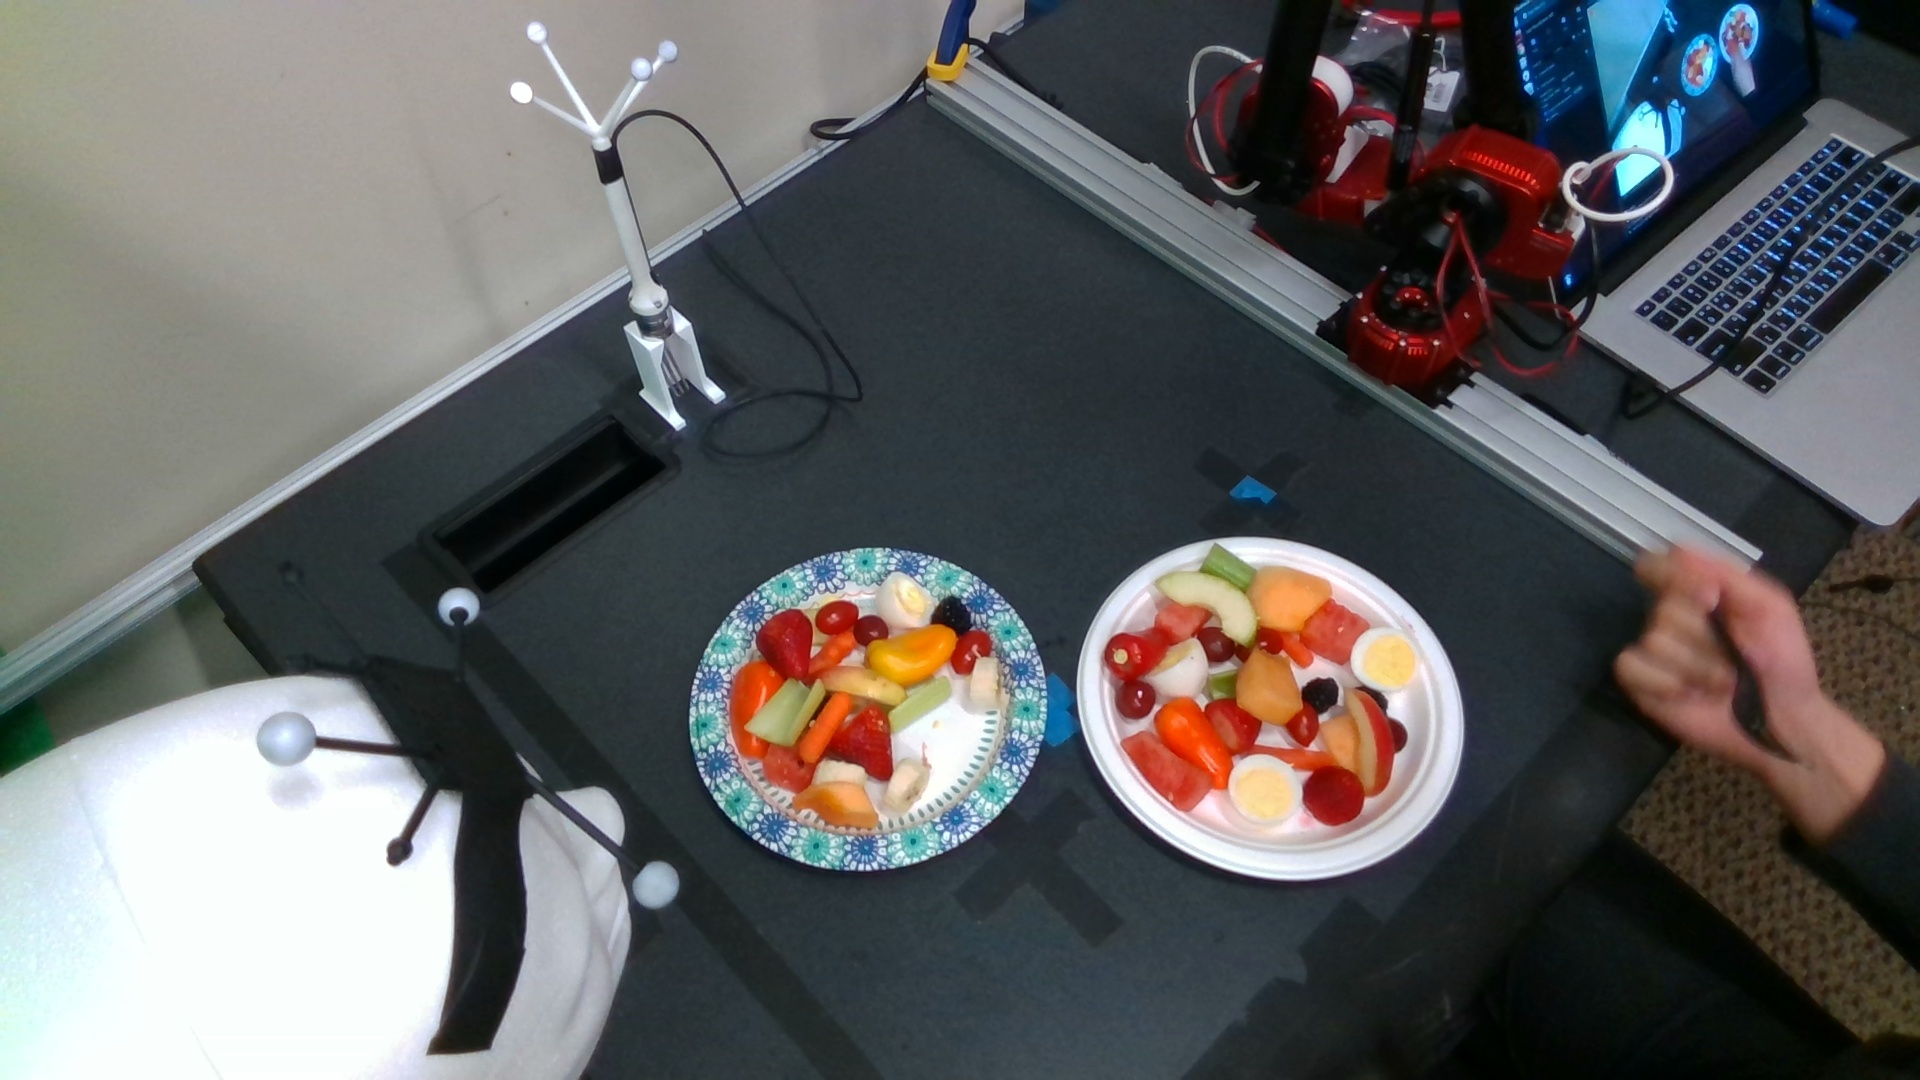apple: (1154, 574, 1258, 646), (1345, 687, 1395, 796)
banana: (884, 757, 931, 814), (971, 657, 1000, 711)
bell pepper: (1154, 698, 1234, 789), (864, 625, 957, 686), (731, 659, 782, 760), (1102, 626, 1170, 680)
blackberry: (931, 595, 971, 636), (1302, 676, 1338, 716)
cantalope: (1245, 564, 1333, 630), (1236, 647, 1304, 727), (793, 783, 877, 831)
carrot: (800, 688, 849, 764), (808, 630, 858, 676)
celery: (744, 676, 825, 746), (887, 675, 953, 735), (1200, 543, 1261, 600)
cherry tomato: (951, 629, 992, 676), (1284, 702, 1319, 749), (816, 601, 857, 636), (1237, 629, 1283, 659)
egg: (1229, 754, 1302, 825), (1350, 628, 1419, 694), (1145, 638, 1209, 698), (880, 570, 940, 630)
grape: (1114, 680, 1154, 719), (1197, 626, 1236, 662), (858, 616, 891, 645)
melon: (1121, 731, 1211, 811), (1300, 597, 1370, 665), (1153, 579, 1218, 646), (764, 742, 815, 790)
plate: (1076, 537, 1464, 882), (688, 549, 1048, 878)
strawberry: (829, 705, 893, 781), (757, 611, 812, 680), (1303, 765, 1365, 827), (1205, 698, 1262, 754)
